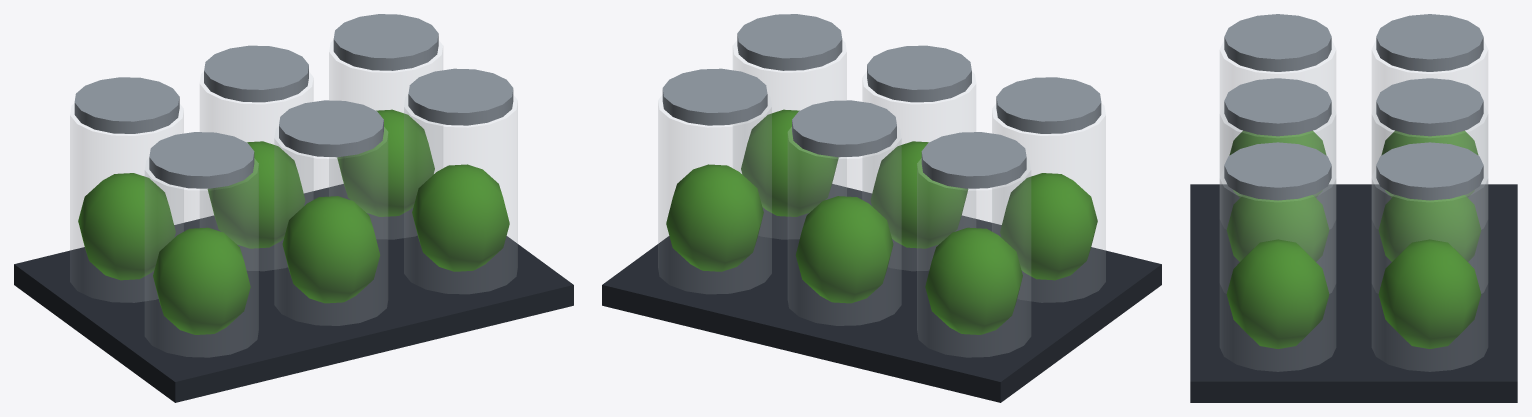
Rendered from curing-jars-tray.glb.
3 views of the same model, side by side, from view 1: azimuth 30°, elevation 25°; view 2: azimuth 150°, elevation 25°; view 3: azimuth 270°, elevation 25° (orthographic).
Parts seen in each view (by area): view 1: jar_tray, jar_6, jar_5, jar_4, jar_1, jar_3, jar_2, jar_bud_6, jar_bud_4, jar_bud_5, jar_bud_1, jar_bud_2 (+7 smaller); view 2: jar_tray, jar_3, jar_2, jar_1, jar_4, jar_6, jar_5, jar_bud_3, jar_bud_1, jar_bud_2, jar_bud_4, jar_bud_5 (+7 smaller); view 3: jar_tray, jar_3, jar_6, jar_2, jar_5, jar_bud_3, jar_bud_6, jar_lid_1, jar_lid_4, jar_lid_2, jar_lid_5, jar_lid_3 (+7 smaller).
Boxes of the visible parts, x1,y1,x2,y2 form: jar_tray: (14, 184, 573, 402); jar_6: (404, 95, 517, 293); jar_5: (274, 127, 387, 325); jar_4: (145, 159, 258, 357); jar_1: (70, 104, 183, 302); jar_3: (329, 41, 442, 239); jar_2: (200, 72, 313, 270); jar_bud_6: (412, 164, 509, 271); jar_bud_4: (153, 227, 250, 334); jar_bud_5: (282, 196, 380, 303); jar_bud_1: (78, 173, 175, 280); jar_bud_2: (207, 141, 305, 248); jar_tray: (602, 184, 1161, 402); jar_3: (658, 95, 771, 293); jar_2: (788, 127, 901, 325); jar_1: (917, 159, 1030, 357); jar_4: (992, 104, 1105, 302); jar_6: (733, 41, 846, 239); jar_5: (862, 72, 975, 270); jar_bud_3: (666, 164, 763, 271); jar_bud_1: (925, 227, 1022, 334); jar_bud_2: (795, 196, 893, 303); jar_bud_4: (1000, 173, 1097, 280); jar_bud_5: (870, 141, 968, 248); jar_tray: (1190, 184, 1517, 402); jar_3: (1372, 170, 1487, 371); jar_6: (1220, 170, 1335, 371); jar_2: (1372, 106, 1487, 292); jar_5: (1220, 106, 1335, 292); jar_bud_3: (1378, 239, 1481, 348); jar_bud_6: (1226, 239, 1329, 348); jar_lid_1: (1376, 14, 1483, 71); jar_lid_4: (1224, 14, 1331, 71); jar_lid_2: (1376, 78, 1483, 136); jar_lid_5: (1224, 78, 1331, 136); jar_lid_3: (1376, 142, 1483, 200).
Bounding box in the file's own units: 0.4 × 0.192 × 0.28.
